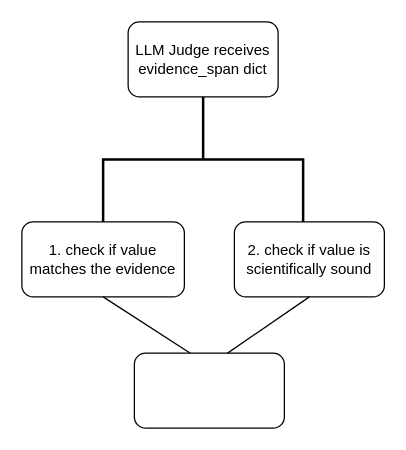
Some shapes in this 406 by 450 pixel diagram are drawn without their labels. The shapes that lost their labels are listed below. From the top down, each one's box as (x1, y1, x2, y2) in pixels, then its label:
(101, 95, 304, 222): per field
(133, 352, 284, 428): give a score (per field)
